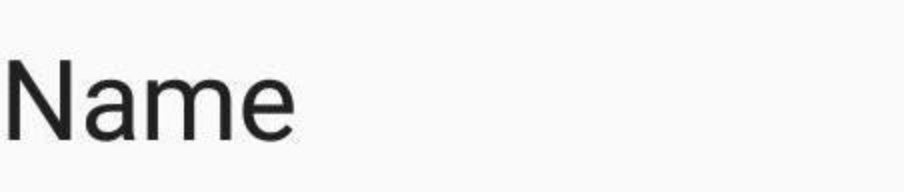TextView: (1, 1, 903, 191)
